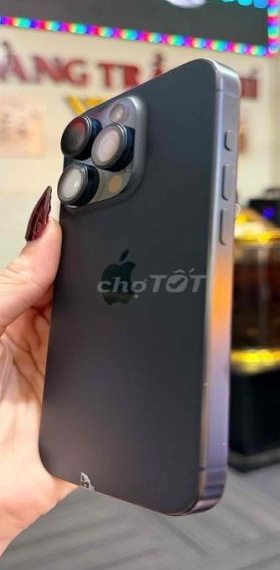scratch: (196, 372, 233, 453)
